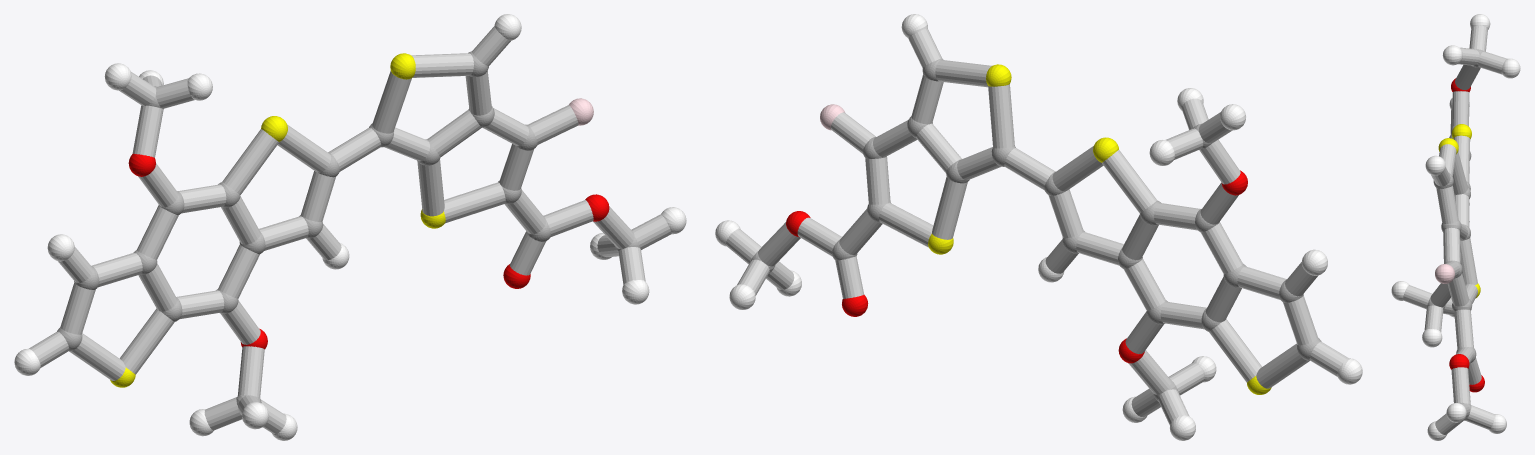
File: Dimethoxy_Benzodithiophene_Phi_10_Theta_190_Methylcarbonyl_3_Fluoro_Thienothiophene.glb
The picture shows the model from 3 angles, left to right: view 1: azimuth 30°, elevation 25°; view 2: azimuth 150°, elevation 25°; view 3: azimuth 270°, elevation 25°; orthographic projection. The views are drawn at different scales.
Parts seen in each view (by area): view 1: grp15205, grp8689, grp1, grp7241, grp13395; view 2: grp15205, grp8689, grp1, grp7241, grp13395; view 3: grp15205, grp8689, grp1, grp13395, grp7241, grp14843.
Part boxes in pixels (bbox=[...]): grp15205: bbox=[29, 26, 671, 433]; grp8689: bbox=[14, 14, 686, 440]; grp1: bbox=[57, 51, 640, 405]; grp7241: bbox=[110, 53, 445, 387]; grp13395: bbox=[128, 153, 609, 349]; grp15205: bbox=[726, 28, 1348, 424]; grp8689: bbox=[715, 14, 1362, 440]; grp1: bbox=[751, 58, 1321, 401]; grp7241: bbox=[928, 64, 1271, 394]; grp13395: bbox=[786, 170, 1247, 363]; grp15205: bbox=[1403, 25, 1507, 434]; grp8689: bbox=[1391, 14, 1520, 440]; grp1: bbox=[1427, 49, 1483, 420]; grp13395: bbox=[1449, 78, 1484, 392]; grp7241: bbox=[1438, 124, 1480, 298]; grp14843: bbox=[1435, 264, 1454, 283].
Bounding box in the file's own units: 16.92 × 9.3 × 3.83.
